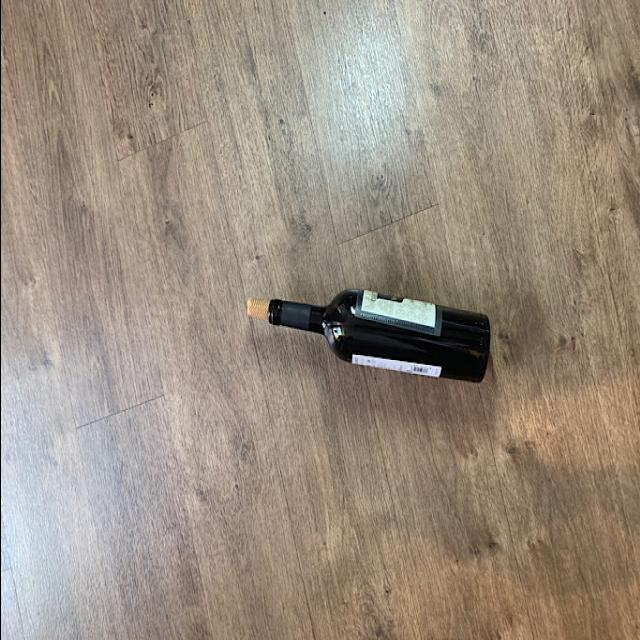litter: (264, 286, 488, 390)
